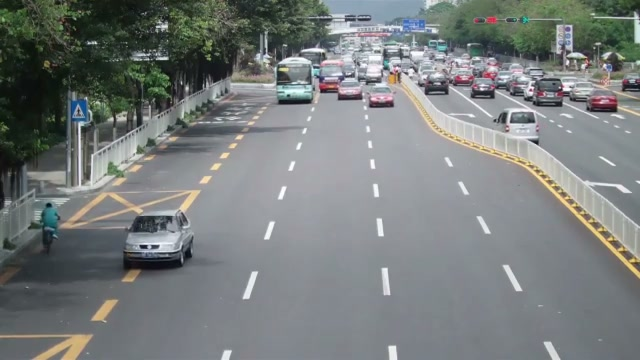bus: (275, 56, 314, 104), (318, 59, 345, 93), (300, 48, 327, 76)
car: (122, 208, 195, 269), (494, 108, 541, 144), (533, 79, 564, 107), (586, 91, 618, 112), (367, 85, 395, 108), (424, 72, 449, 95), (337, 78, 363, 100), (470, 77, 496, 99), (508, 75, 532, 96), (569, 83, 595, 101), (451, 71, 475, 86), (621, 75, 640, 90)
motorcycle: (41, 225, 59, 255)
pedestrian: (41, 202, 61, 239)
